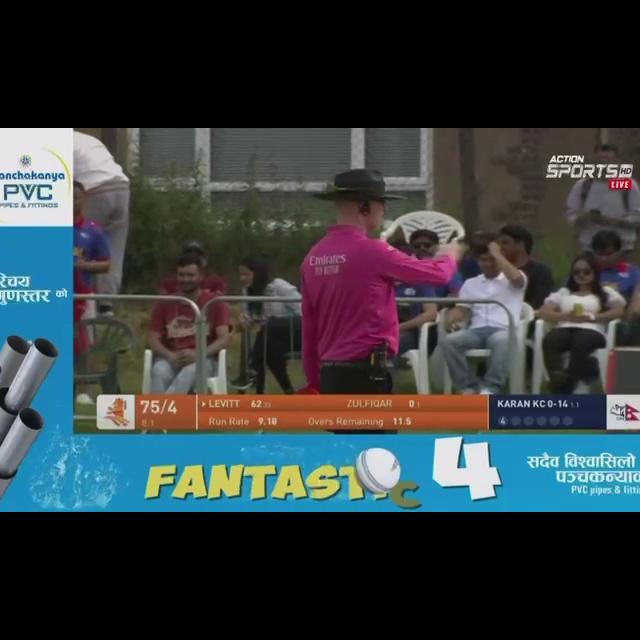umpire: (282, 168, 483, 390)
